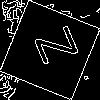Z: (25, 25, 79, 71)
